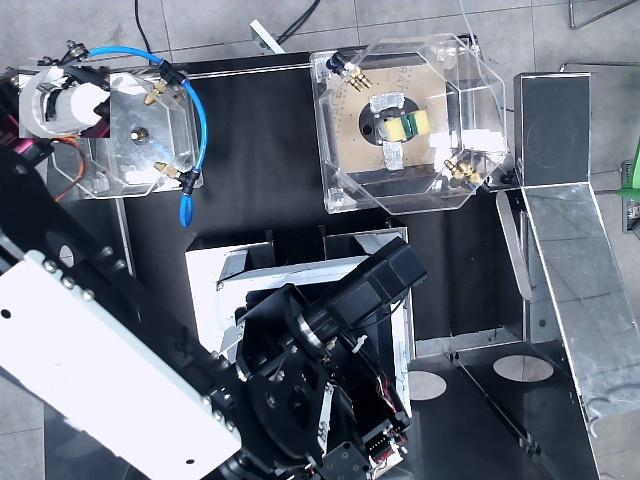cup: (19, 66, 110, 138)
